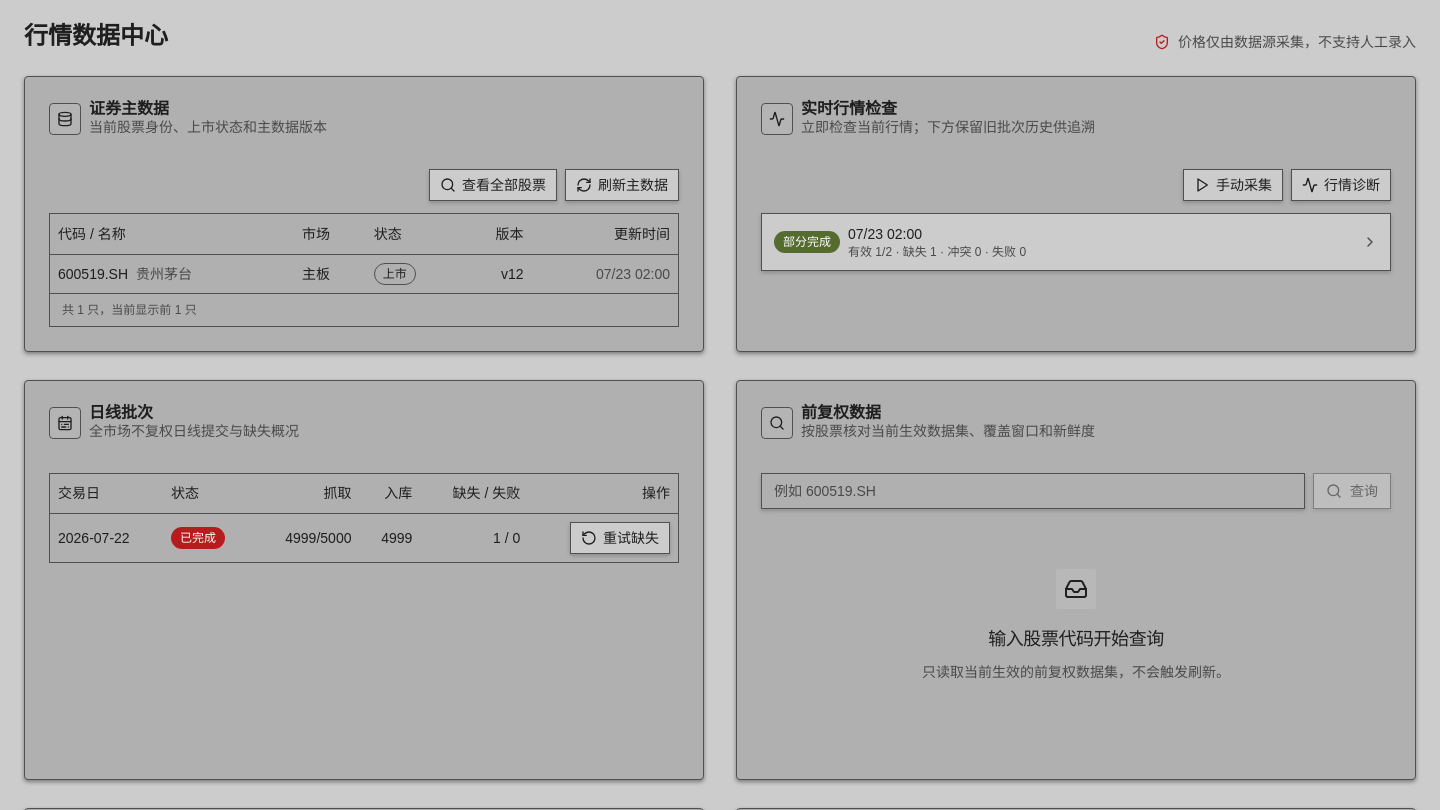
Test: 行情数据中心 › 手动行情检查完成后直接展示本次结果
The image size is (1440, 810).
Step 1. Click the button "手动采集" → (1233, 185), box [1183,169,1283,201]
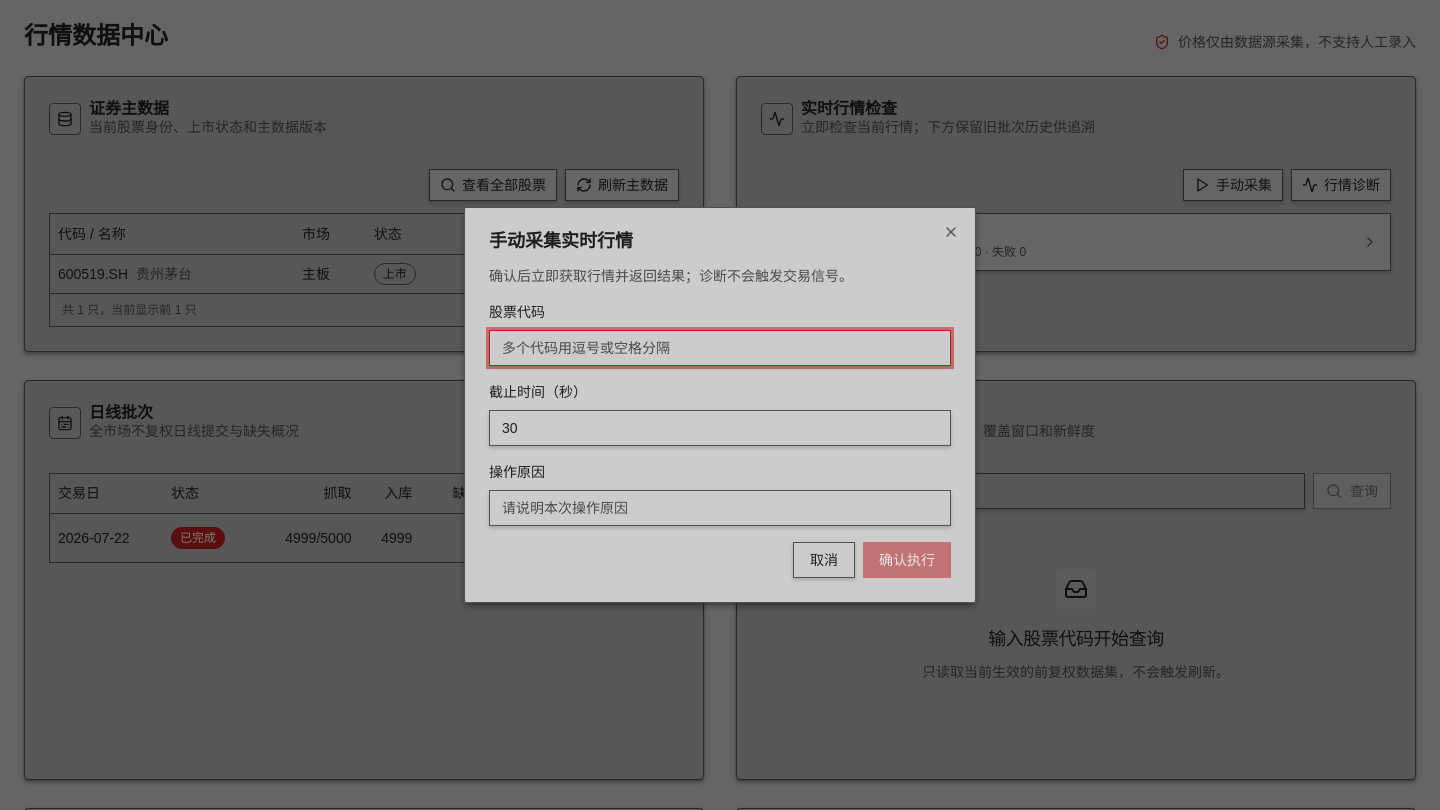
Step 2. Type "600000.SH 000001.SZ" into the field labelled "股票代码" → (720, 348), box [489,330,951,366]
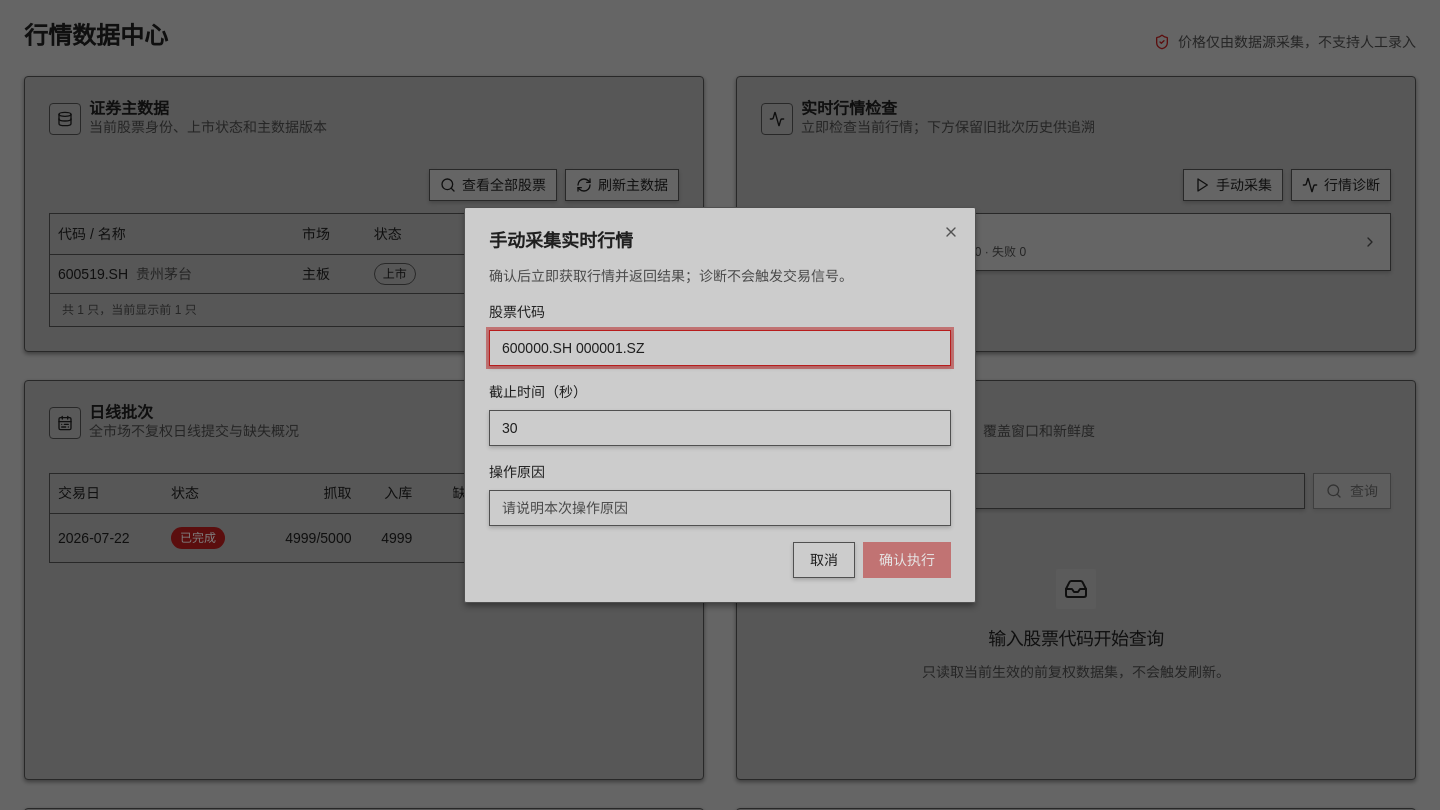
Step 3. Type "立即核对监控行情" into the field labelled "操作原因" → (720, 508), box [489,490,951,526]
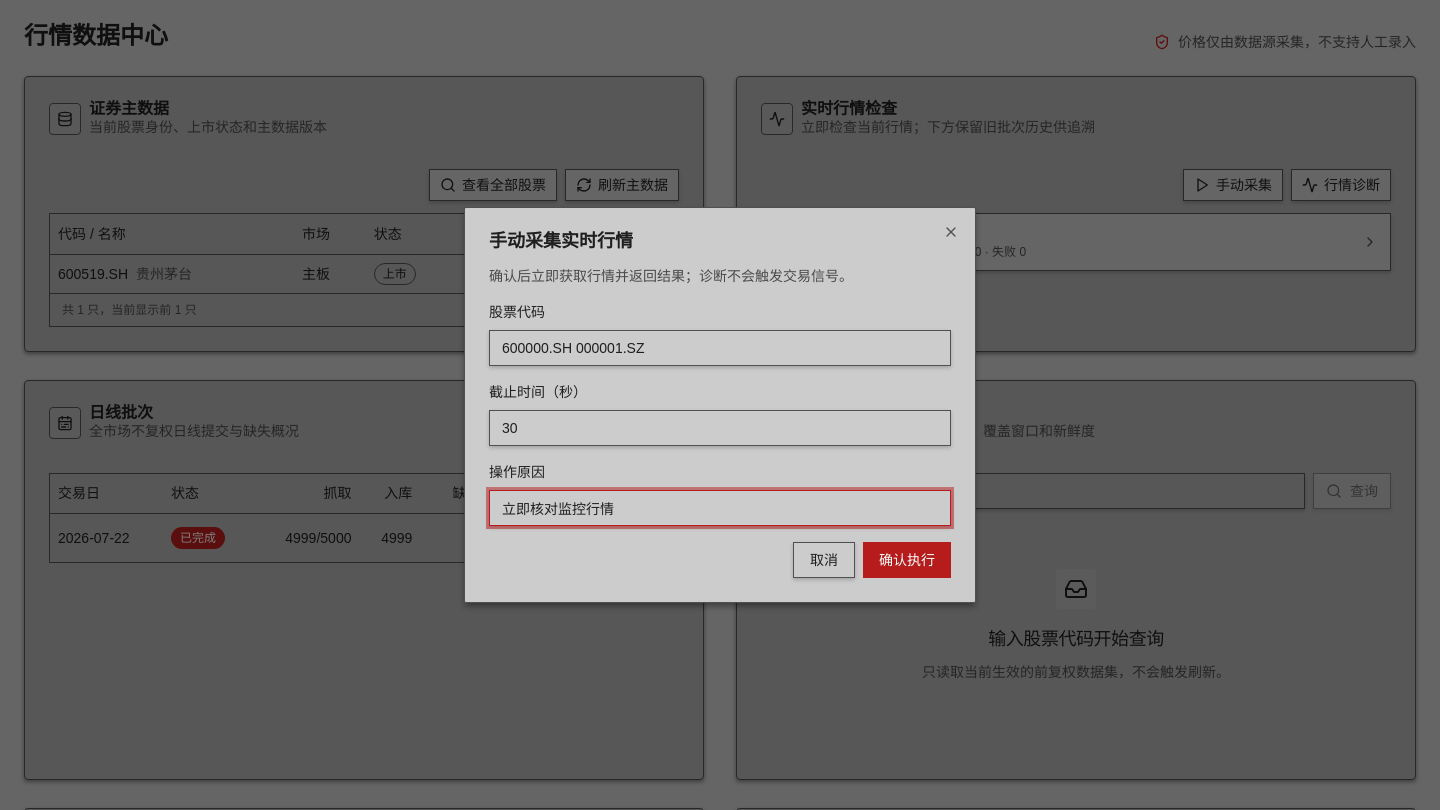
Step 4. Click the button "确认执行" → (907, 560), box [863,542,951,578]
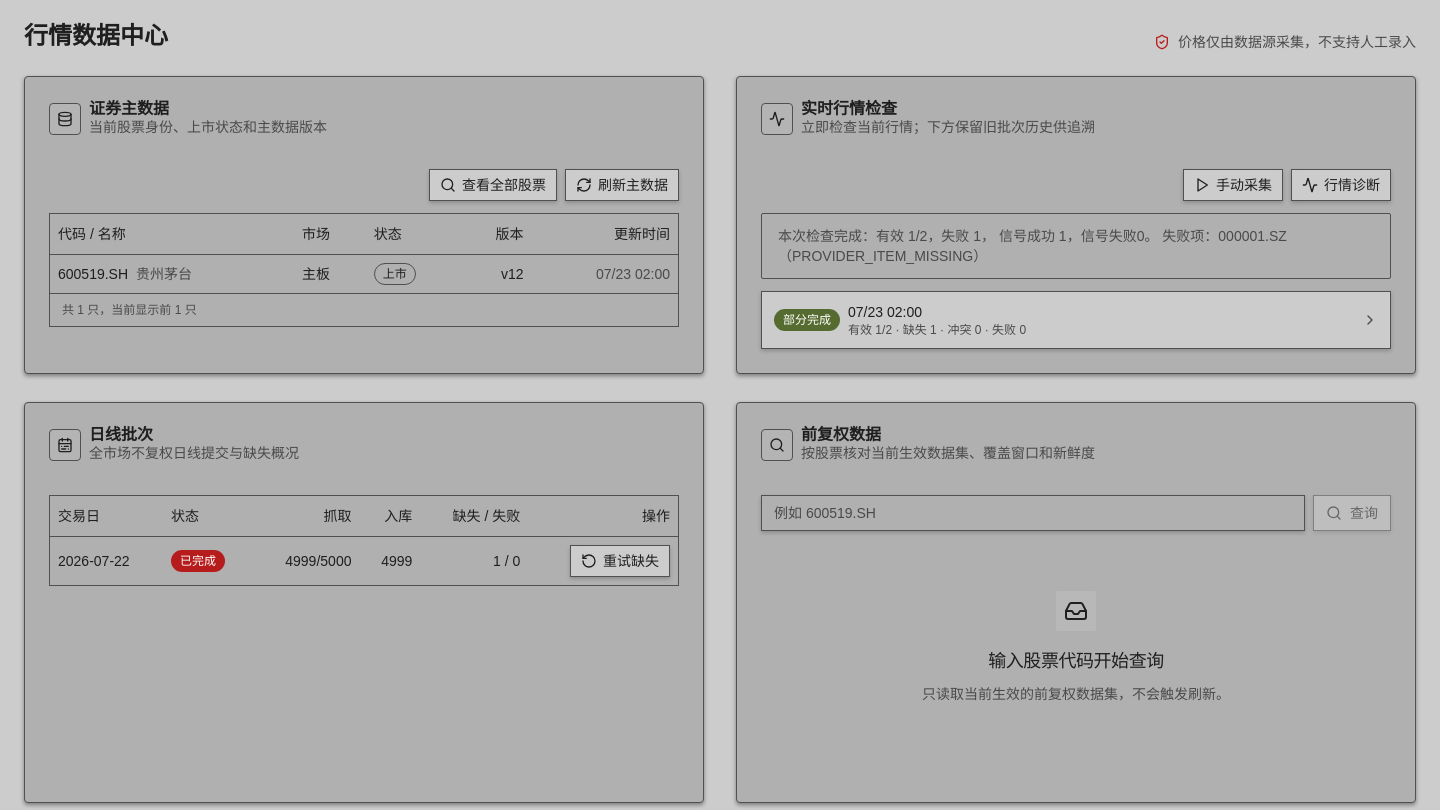
expect the text "本次检查完成：有效 1/2，失败 1" is shown: met, box [778,226,1374,266]
expect the text "000001.SZ（PROVIDER_ITEM_MISSING）" is shown: met, box [778,228,1287,264]
